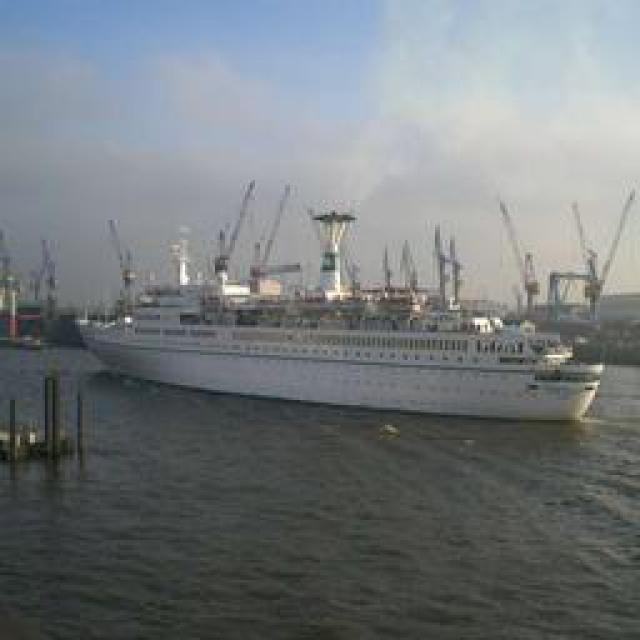Ship: (88, 258, 603, 423)
